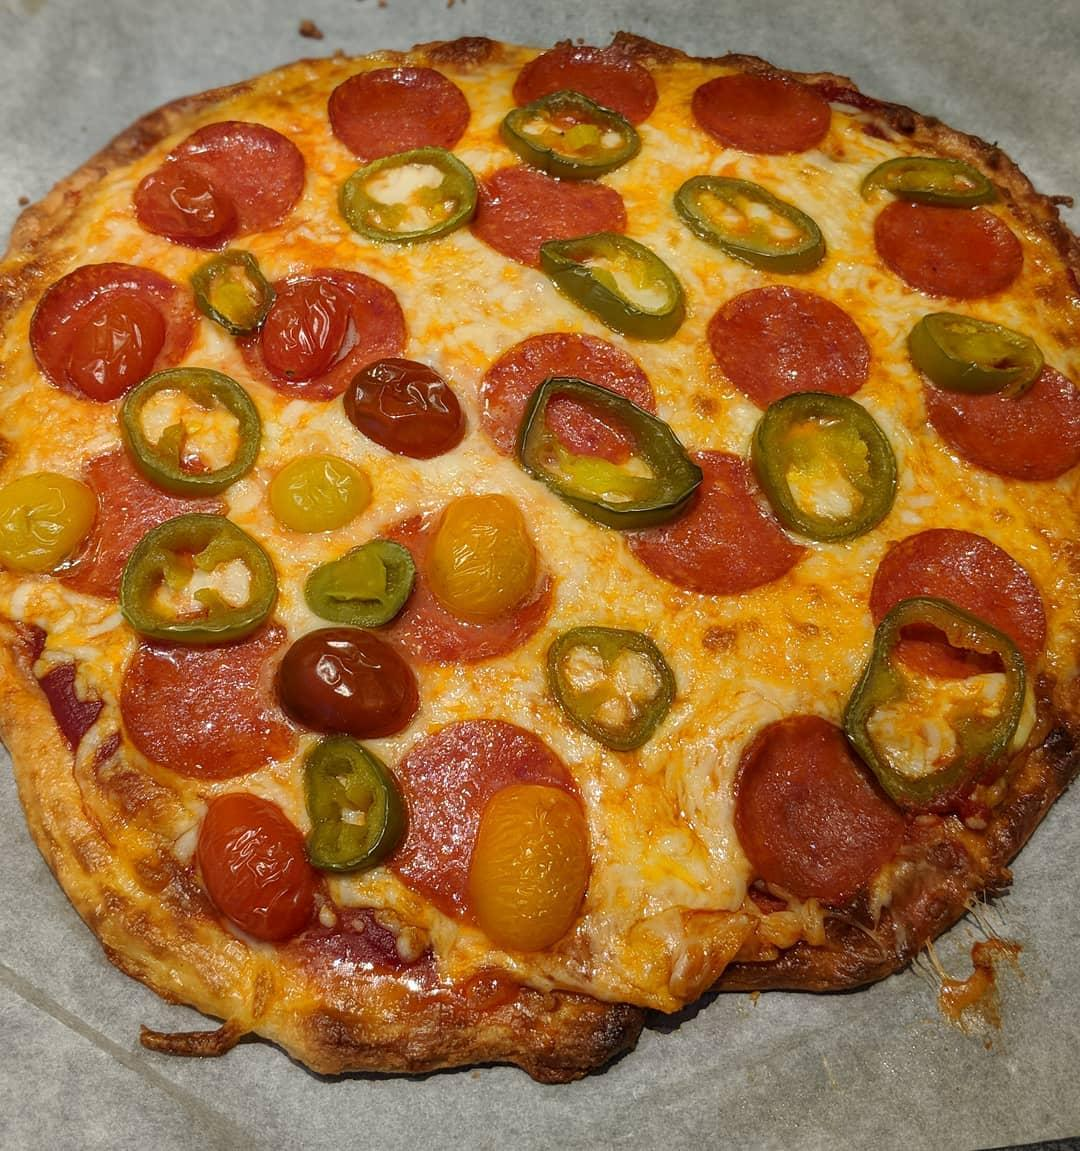Pepperoni: (394, 724, 582, 924), (732, 717, 903, 902), (619, 451, 814, 595), (116, 632, 295, 773), (377, 520, 548, 665), (53, 451, 220, 597), (874, 533, 1044, 675), (481, 333, 651, 468), (33, 262, 196, 400), (235, 271, 408, 398), (708, 286, 868, 409), (920, 363, 1080, 478), (468, 162, 626, 274), (871, 193, 1022, 299), (168, 121, 308, 230), (331, 66, 467, 155), (693, 70, 830, 155), (517, 48, 657, 129)
Peppers: (849, 599, 1027, 804), (520, 378, 703, 526), (753, 393, 897, 544), (120, 516, 278, 632), (124, 368, 261, 492), (549, 626, 677, 753), (538, 232, 685, 340), (677, 176, 829, 275), (303, 735, 409, 874), (495, 92, 643, 177), (339, 154, 468, 244), (910, 313, 1043, 391), (307, 541, 413, 626), (987, 221, 1080, 308), (863, 155, 997, 205), (198, 250, 274, 333)
Pizza: (0, 40, 1080, 1077)
Tomatoes: (472, 776, 582, 951), (198, 793, 322, 938), (280, 626, 416, 734), (430, 495, 534, 616), (344, 357, 466, 458), (0, 473, 93, 569), (71, 300, 162, 398), (133, 170, 240, 251), (262, 283, 351, 380), (269, 453, 369, 536)
